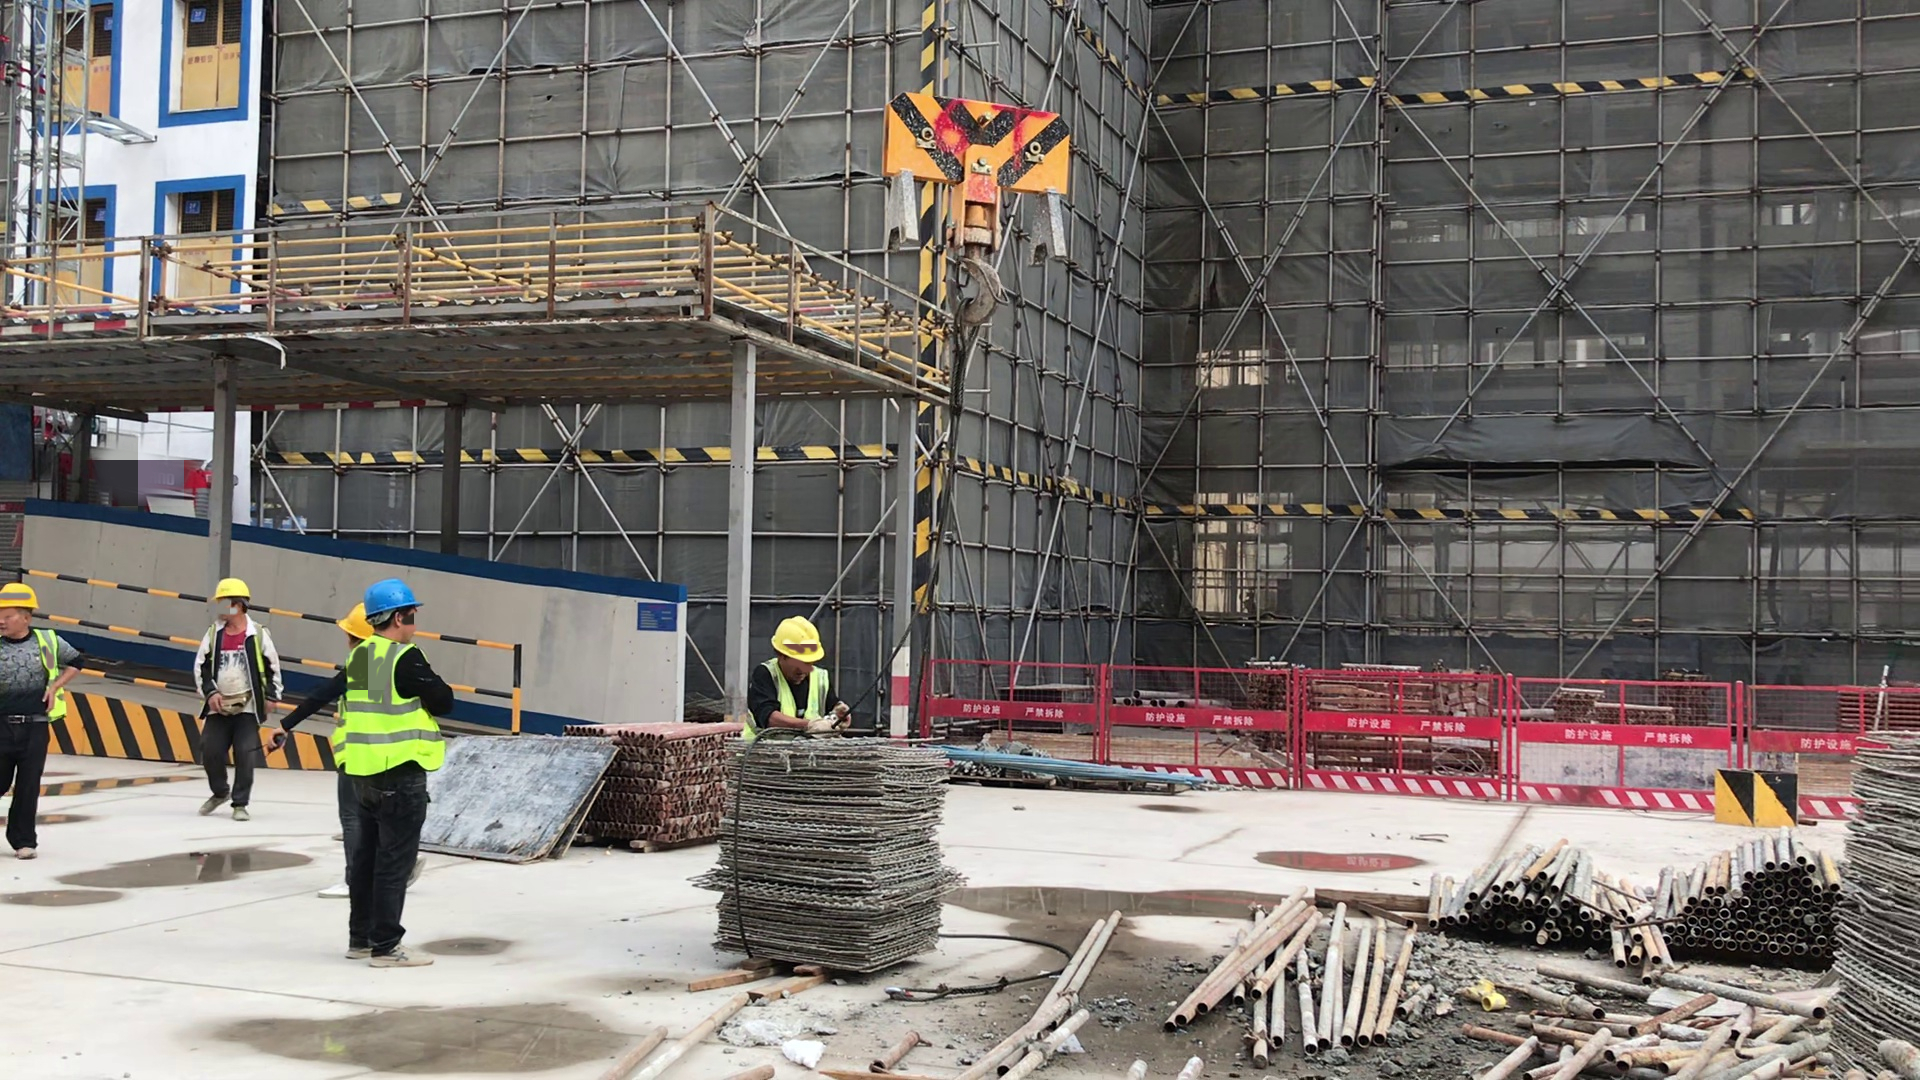fence: (929, 634, 1882, 837)
helmet: (775, 608, 838, 673), (360, 572, 428, 620), (332, 600, 375, 645), (211, 573, 254, 606), (4, 583, 41, 613)
hook: (879, 67, 1094, 284)
person: (354, 570, 444, 979), (5, 566, 90, 879), (198, 579, 296, 823), (751, 604, 860, 759), (334, 602, 370, 898)
scaffold: (1161, 882, 1443, 1068), (1665, 842, 1853, 985), (568, 703, 723, 861), (1439, 846, 1659, 957)
vest: (341, 636, 441, 780), (750, 655, 849, 747), (199, 621, 271, 728), (1, 633, 70, 725)
